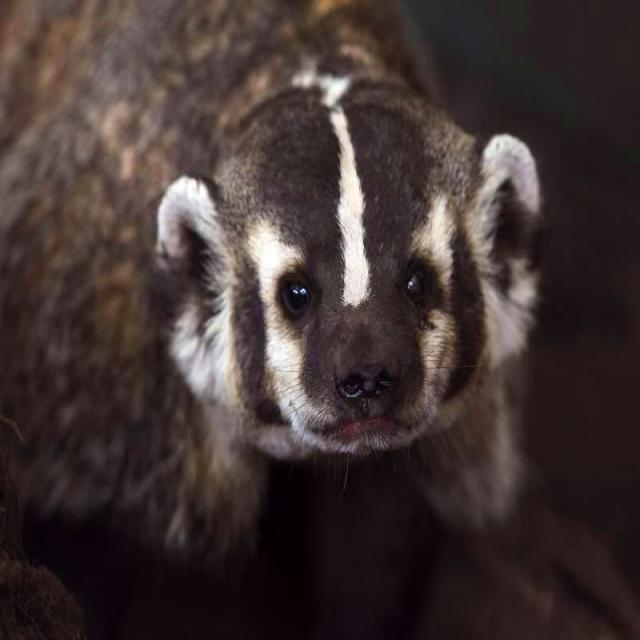badger: (1, 0, 542, 559)
